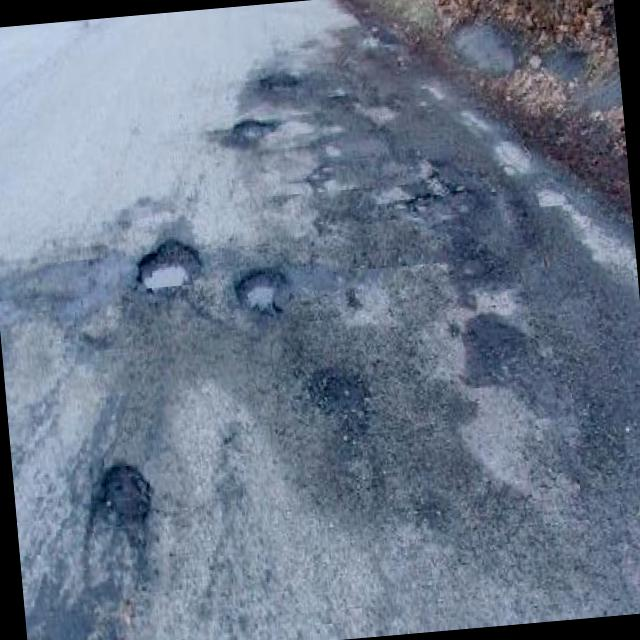Lubang: (462, 313, 527, 385), (308, 366, 370, 420), (138, 239, 200, 289), (102, 463, 151, 521), (451, 235, 511, 281), (234, 269, 288, 314), (233, 117, 280, 143), (257, 72, 301, 89), (409, 187, 434, 214), (426, 174, 449, 195)
